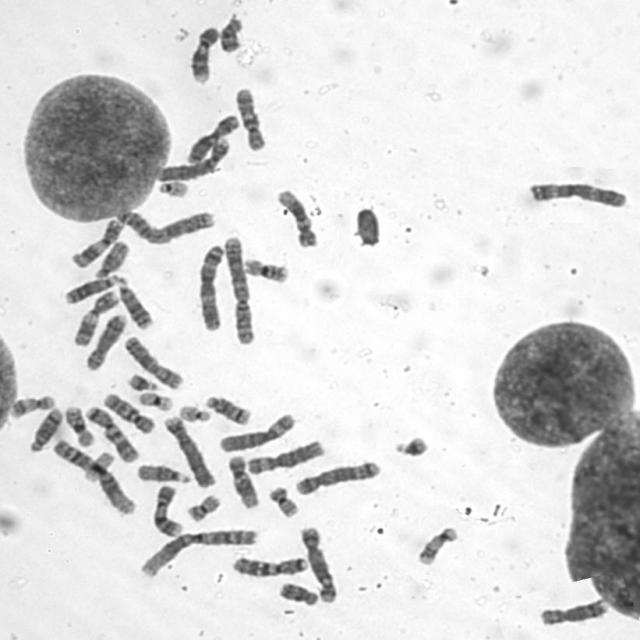A1: (51, 437, 137, 516), (137, 526, 260, 578)
A2: (111, 201, 216, 246), (220, 232, 256, 346)
A3: (525, 178, 629, 210), (194, 240, 226, 331)
B4: (161, 412, 217, 489), (154, 134, 232, 184)
B5: (293, 458, 382, 497), (298, 523, 339, 604)
C10: (100, 390, 156, 436), (232, 84, 268, 153)
C11: (66, 215, 126, 270), (69, 287, 120, 347)
C12: (274, 186, 320, 250), (225, 452, 261, 510)
C6: (216, 410, 297, 454), (244, 436, 326, 476)
C7: (83, 402, 139, 463), (228, 552, 309, 579)
C8: (82, 311, 128, 372), (536, 596, 610, 626)
C9: (186, 23, 222, 87), (150, 482, 184, 538)
D13: (114, 278, 154, 330), (62, 271, 123, 305)
D14: (26, 405, 64, 453), (202, 392, 252, 426)
D15: (91, 237, 132, 280), (134, 461, 193, 485)
E16: (62, 403, 97, 448), (241, 256, 290, 284)
E17: (414, 523, 459, 568), (7, 391, 57, 419)
E18: (276, 579, 320, 607), (217, 12, 244, 55)
F19: (80, 448, 116, 484), (136, 389, 176, 413)
F20: (265, 483, 300, 519), (183, 492, 222, 522)
G21: (390, 431, 431, 459), (125, 370, 159, 393)
G22: (176, 403, 213, 423), (155, 178, 190, 199)
X: (122, 334, 184, 391), (182, 110, 242, 167)
